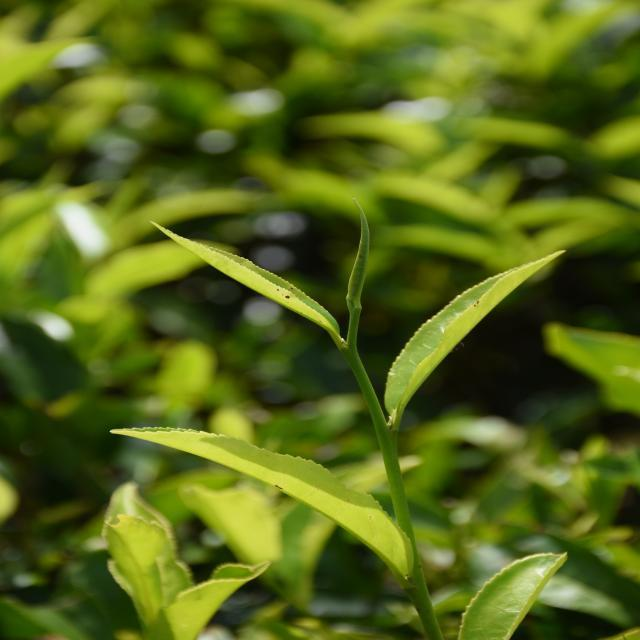Stem: (380, 431, 398, 459)
